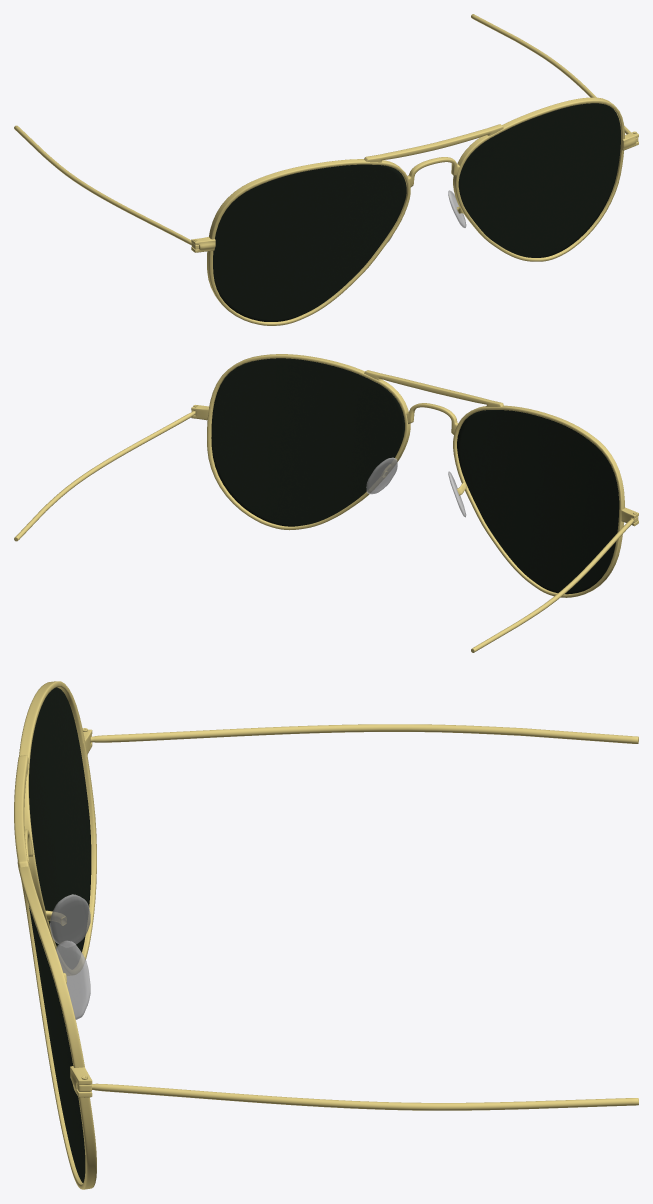
Rendered from aviador ajustado.glb.
3 renders of one model, top to bottom at view 1: azimuth 30°, elevation 25°; view 2: azimuth 150°, elevation 25°; view 3: azimuth 270°, elevation 25°, orthographic. The views are drawn at different scales.
Parts seen in each view (by area): view 1: armacao_obj; view 2: armacao_obj; view 3: armacao_obj.
Boxes of the visible parts, x1,y1,x2,y2 form: armacao_obj: (14,14,638,325); armacao_obj: (14,354,638,652); armacao_obj: (14,681,638,1189).
Bounding box in the file's own units: 0.1568 × 0.0513 × 0.1084.
3 materials, 3 textured.
